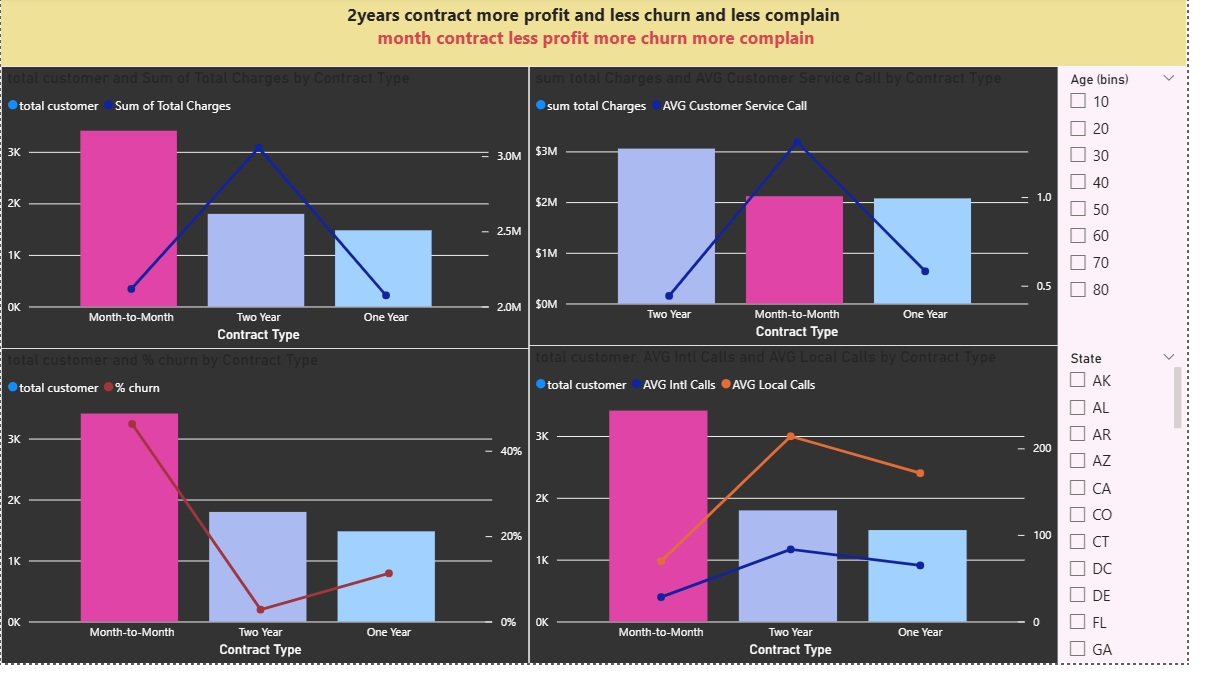

What the dashboard file says about the page in this screenshot:
{"tool":"powerbi","page":{"name":"contract type","canvas":[1280,720],"ordinal":3},"visuals":[{"type":"lineStackedColumnComboChart","fields":{"Category":["Databel - Data.Contract Type"],"Y":["Databel - Data.total customer"],"Y2":["Sum(Databel - Data.Total Charges)"]},"box":[0,76.1,570,304.4],"z":0},{"type":"lineStackedColumnComboChart","fields":{"Category":["Databel - Data.Contract Type"],"Y":["Databel - Data.sum total Charges"],"Y2":["Databel - Data.AVG Customer Service Call"]},"box":[570,76.1,571.6,301.2],"z":1000},{"type":"lineStackedColumnComboChart","fields":{"Category":["Databel - Data.Contract Type"],"Y":["Databel - Data.total customer"],"Y2":["Databel - Data.% churn"]},"box":[0,380.5,570,340],"z":2000},{"type":"lineStackedColumnComboChart","fields":{"Category":["Databel - Data.Contract Type"],"Y":["Databel - Data.total customer"],"Y2":["Databel - Data.AVG Intl Calls","Databel - Data.AVG Local Calls"]},"box":[570,377.3,571.6,343.3],"z":3000},{"type":"textbox","box":[0,1.9,1279.4,73.7],"z":4000},{"type":"slicer","fields":{"Values":["Databel - Data.Age (bins)"]},"box":[1141.4,75.6,138,304.3],"z":5000},{"type":"slicer","fields":{"Values":["Databel - Data.State"]},"box":[1141.4,378,138,342],"z":6000}]}

Visuals, with their boxes in screenshot pixels (x1, y1, x2, y2), scaled from the page's 1280x720 canvas onto the 1208x679 screenshot:
lineStackedColumnComboChart - Databel - Data.Contract Type x Databel - Data.total customer: region(0, 72, 538, 359)
lineStackedColumnComboChart - Databel - Data.Contract Type x Databel - Data.sum total Charges: region(538, 72, 1077, 356)
lineStackedColumnComboChart - Databel - Data.Contract Type x Databel - Data.total customer: region(0, 359, 538, 678)
lineStackedColumnComboChart - Databel - Data.Contract Type x Databel - Data.total customer: region(538, 356, 1077, 678)
textbox: region(0, 2, 1207, 71)
slicer - Databel - Data.Age (bins): region(1077, 71, 1207, 358)
slicer - Databel - Data.State: region(1077, 356, 1207, 678)
